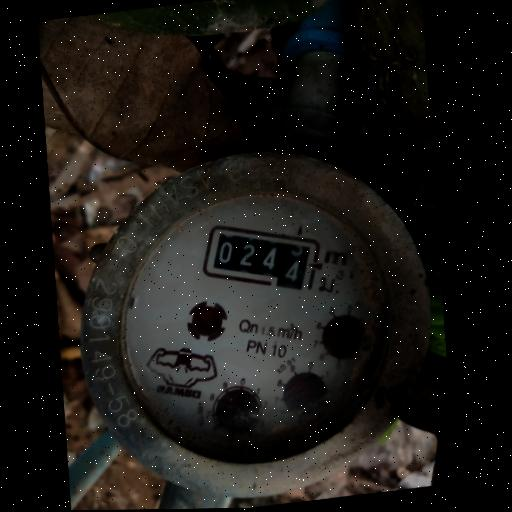0: (209, 231, 244, 272)
2: (229, 233, 267, 277)
4: (272, 238, 316, 293), (252, 237, 291, 280)
border_water_meter_number: (195, 210, 329, 305)
